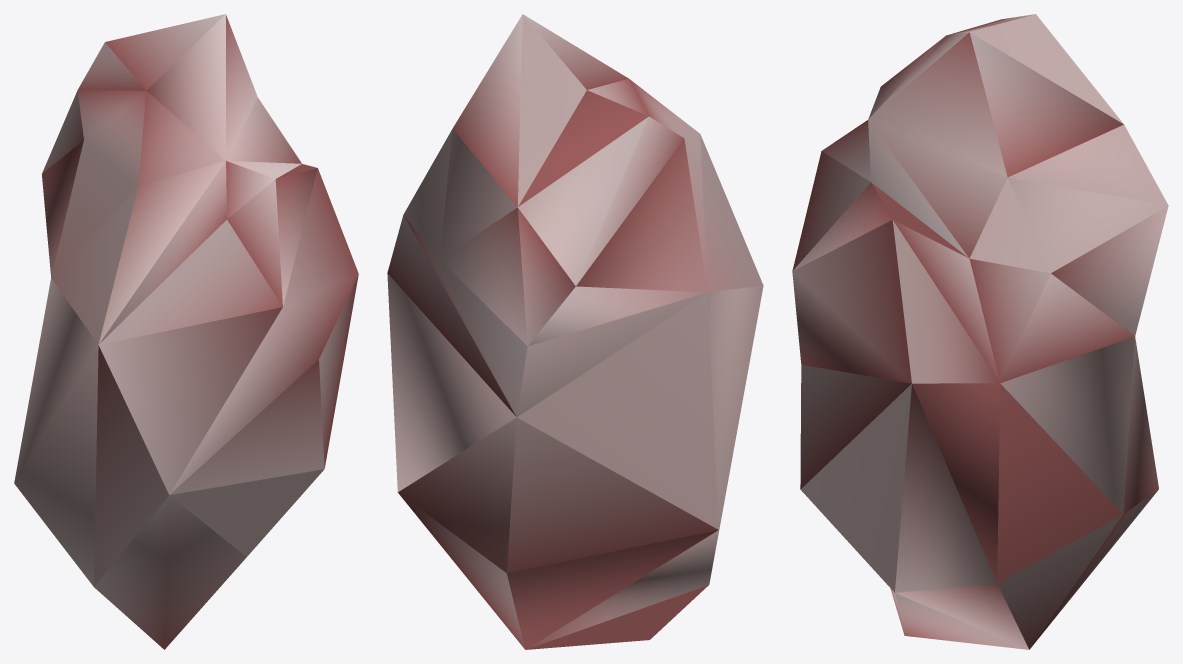
Rendered from gvea.hrc.gltf.
The picture shows the model from 3 angles, left to right: view 1: azimuth 30°, elevation 25°; view 2: azimuth 150°, elevation 25°; view 3: azimuth 270°, elevation 25°; orthographic projection. The views are drawn at different scales.
Visible parts, largest first — view 1: gveaBone0_null; view 2: gveaBone0_null; view 3: gveaBone0_null.
Part boxes in pixels (box(x1,y1,x2,y2)): gveaBone0_null: box(14, 14, 358, 649); gveaBone0_null: box(387, 14, 763, 649); gveaBone0_null: box(792, 14, 1168, 649).
Bounding box in the file's own units: 7.11 × 12.86 × 6.72.
